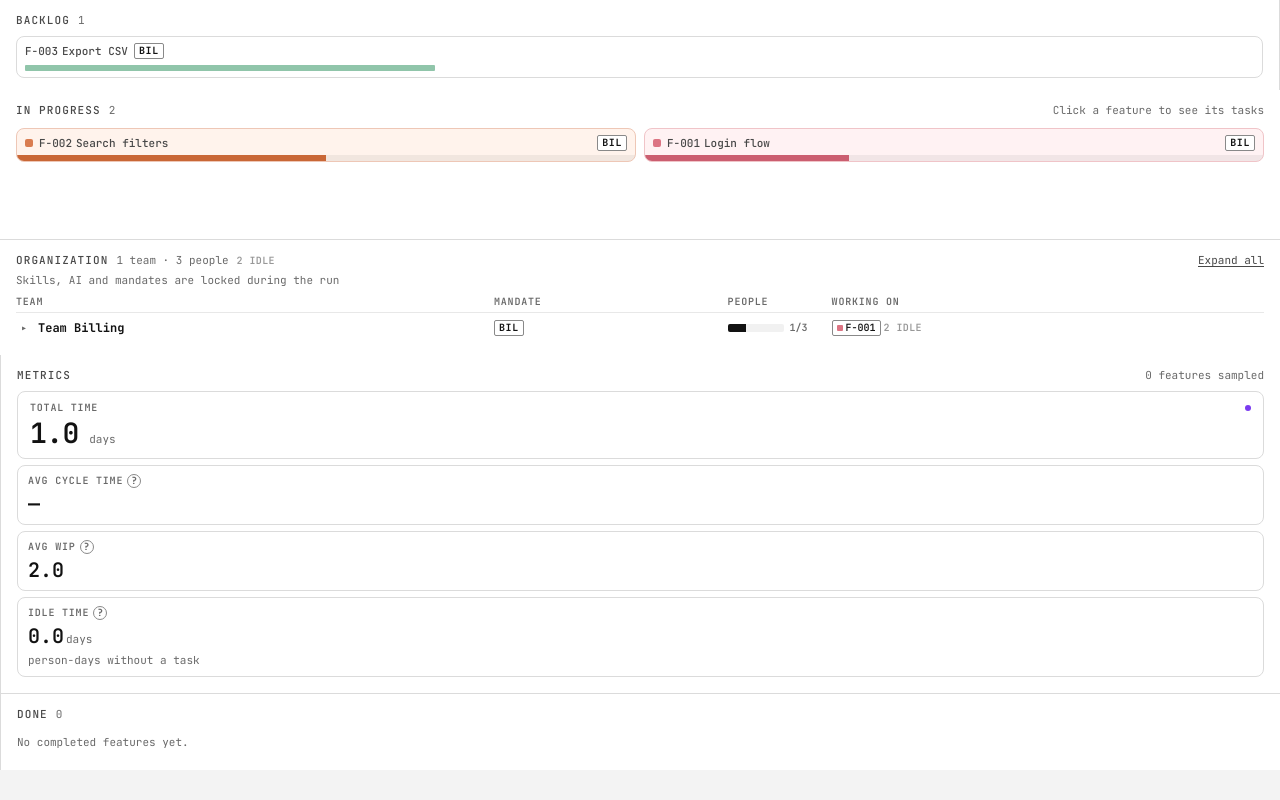
it: feat-029 H1, H2, H4: řádek týmu a lidé za běhu (spec Příklad 6) › H4: D7 v 1.0 — Chen „F-001 · BIL · QA“ s pruhem 33 %; Ada a Ben šedý „Idle“
The image size is (1280, 800).
What coordinates should you click on to do the following:
click the button named "Show or hide people"
I would click on:
 (24, 328)
Its box is [16, 319, 32, 337].
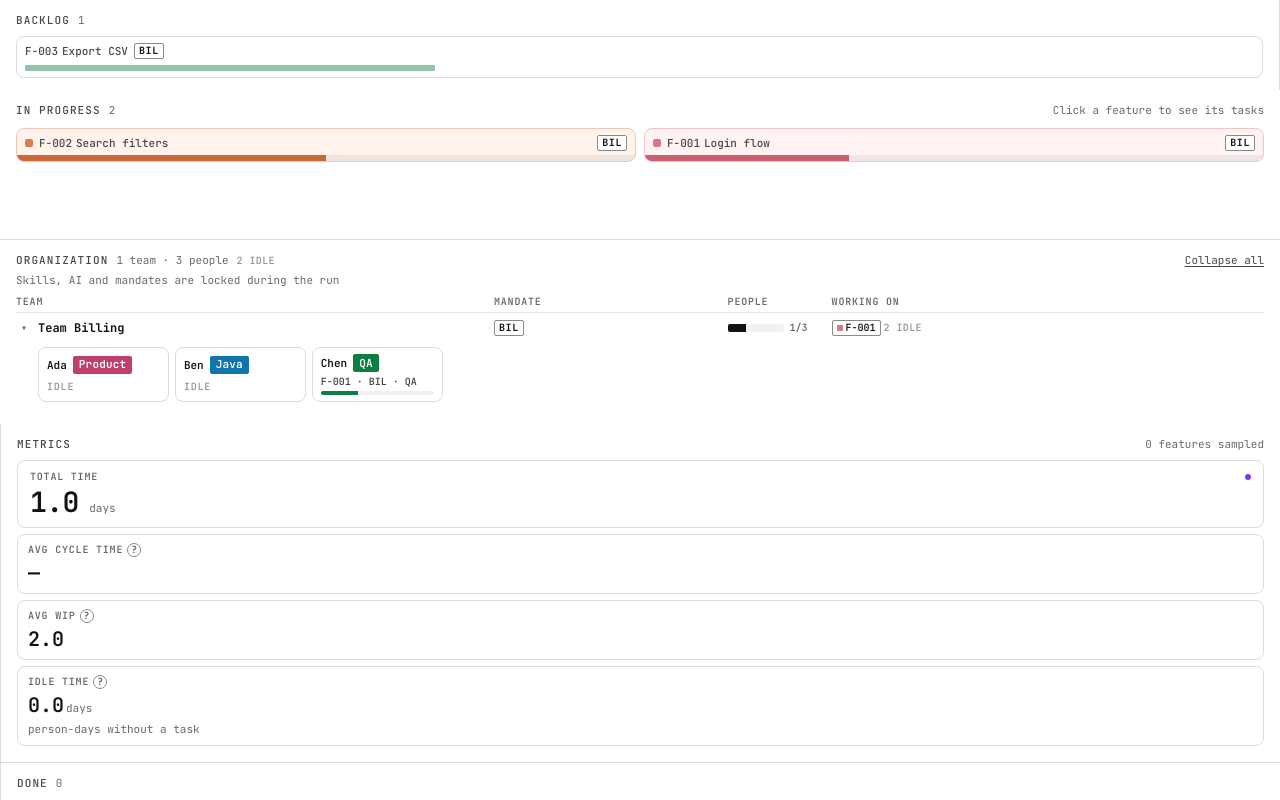
Expected: the text "F-001 · BIL · QA" is shown, [321, 376, 434, 388]
